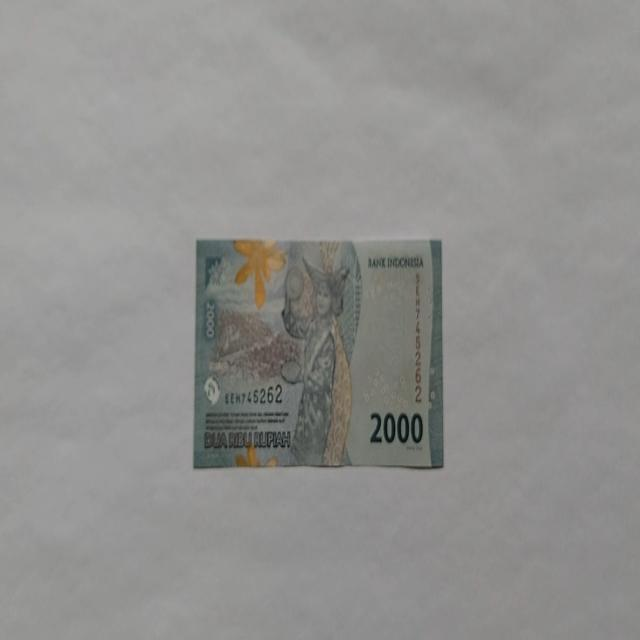dua ribu rupiah: (192, 236, 444, 470), (279, 249, 355, 466)
